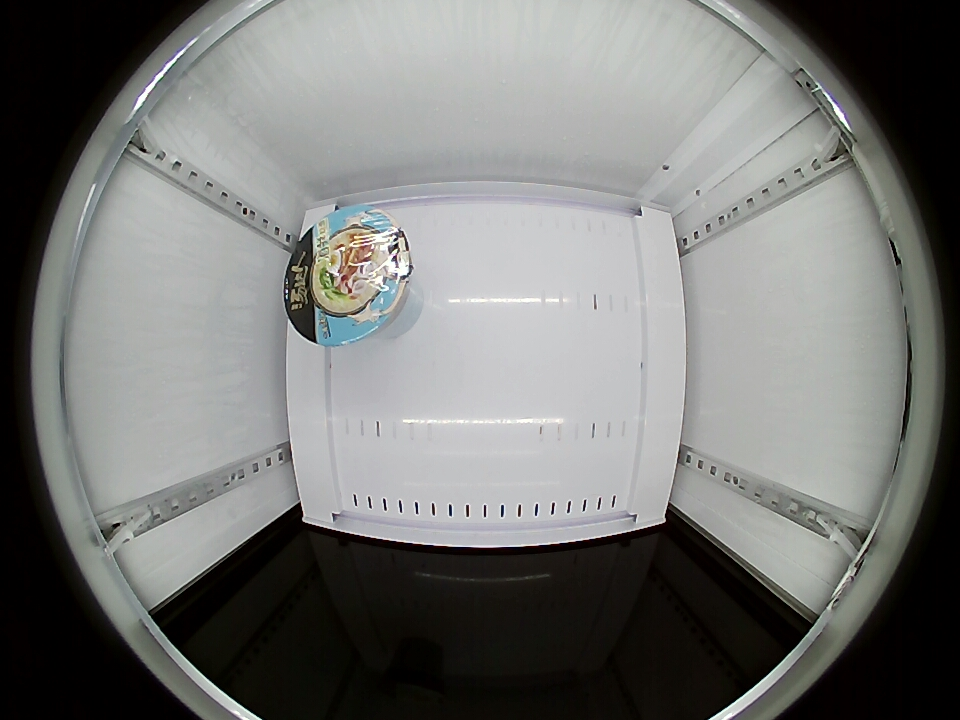tangdaren3: (284, 206, 412, 346)
